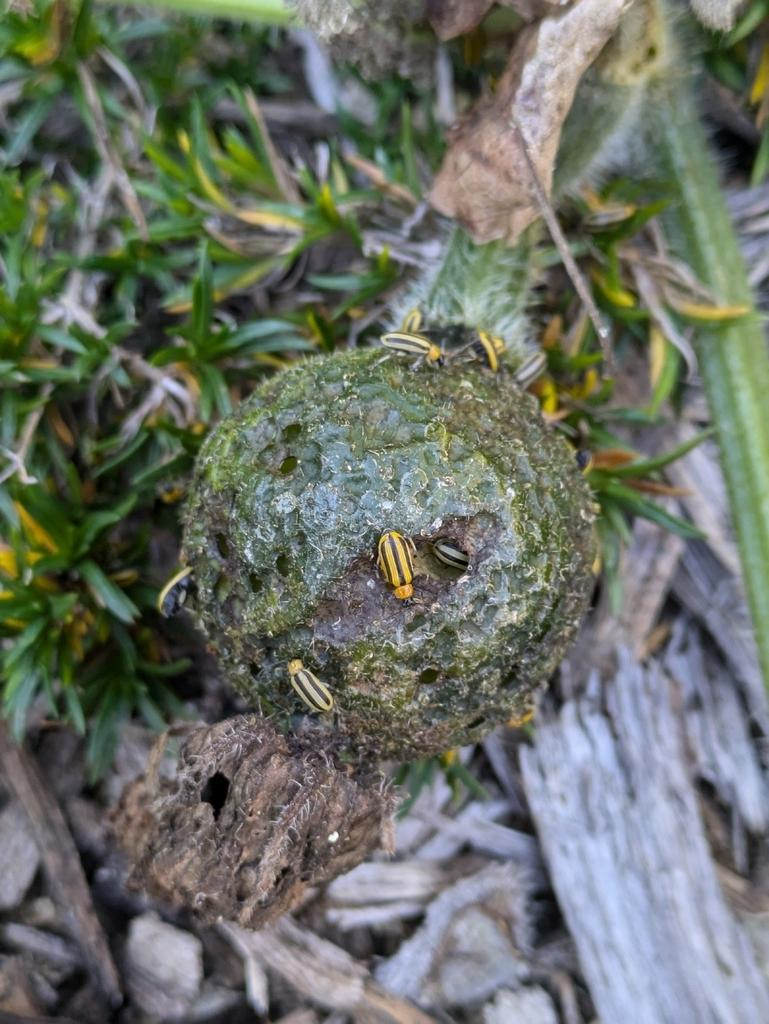potato_beetle: (354, 510, 436, 621), (271, 639, 353, 735)
